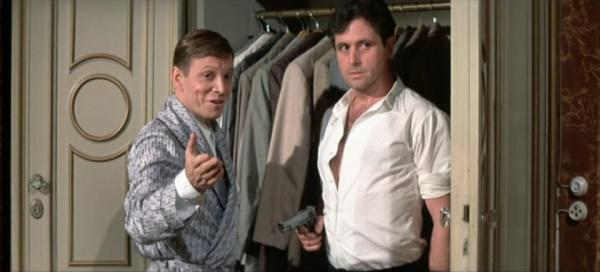Gun: (277, 205, 318, 238)
